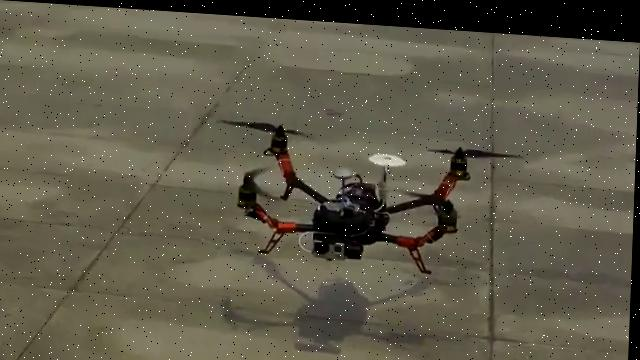drone: (211, 112, 527, 275)
